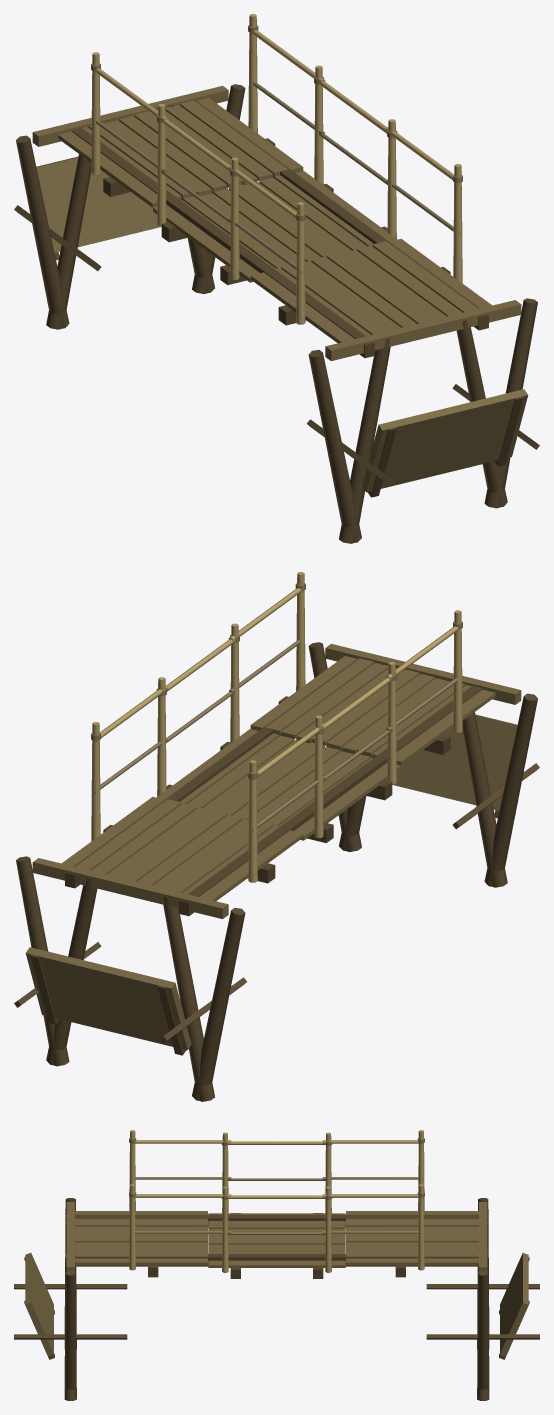
File: footbridge.glb
The picture shows the model from 3 angles, top to bottom: view 1: azimuth 30°, elevation 25°; view 2: azimuth 150°, elevation 25°; view 3: azimuth 270°, elevation 25°; orthographic projection. The views are drawn at different scales.
Visible parts, largest first — view 1: Mesh_Ramp_1, Mesh_Ramp_0, Mesh_Stringer_0, Mesh_CapBeam_1, Mesh_Post_L_Outer_0, Mesh_Post_L_Outer_1, Mesh_Post_L_Inner_1, Mesh_Post_L_Inner_0, Mesh_Post_R_Outer_1, Mesh_Stringer_1, Mesh_CapBeam_0, Mesh_Post_R_Inner_1 (+38 smaller); view 2: Mesh_Ramp_0, Mesh_Ramp_1, Mesh_Stringer_0, Mesh_CapBeam_0, Mesh_Post_L_Outer_1, Mesh_Post_L_Outer_0, Mesh_Post_L_Inner_0, Mesh_Post_L_Inner_1, Mesh_Post_R_Outer_0, Mesh_Stringer_1, Mesh_CapBeam_1, Mesh_Post_R_Inner_0 (+38 smaller); view 3: Mesh_Stringer_0, Mesh_Stringer_1, Mesh_Ramp_0, Mesh_Ramp_1, Mesh_Post_R_Outer_0, Mesh_Post_R_Outer_1, Mesh_Plank_9_0, Mesh_Plank_9_2, Mesh_Plank_9_1, Mesh_Plank_2_0, Mesh_Plank_2_2, Mesh_Plank_5_0 (+41 smaller).
Part boxes in pixels (x1,y1,x2,y2): Mesh_Ramp_1: [362, 389, 528, 492]; Mesh_Ramp_0: [36, 156, 166, 252]; Mesh_Stringer_0: [71, 128, 374, 358]; Mesh_CapBeam_1: [325, 300, 521, 360]; Mesh_Post_L_Outer_0: [16, 135, 69, 329]; Mesh_Post_L_Outer_1: [308, 350, 361, 542]; Mesh_Post_L_Inner_1: [339, 338, 390, 543]; Mesh_Post_L_Inner_0: [46, 154, 91, 329]; Mesh_Post_R_Outer_1: [484, 298, 537, 508]; Mesh_Stringer_1: [194, 100, 488, 330]; Mesh_CapBeam_0: [32, 85, 228, 146]; Mesh_Post_R_Inner_1: [456, 319, 507, 508]; Mesh_Ramp_0: [25, 947, 191, 1050]; Mesh_Ramp_1: [387, 714, 517, 810]; Mesh_Stringer_0: [179, 686, 482, 916]; Mesh_CapBeam_0: [32, 858, 228, 918]; Mesh_Post_L_Outer_1: [484, 693, 537, 887]; Mesh_Post_L_Outer_0: [192, 908, 245, 1100]; Mesh_Post_L_Inner_0: [163, 896, 214, 1101]; Mesh_Post_L_Inner_1: [462, 712, 507, 887]; Mesh_Post_R_Outer_0: [16, 856, 69, 1066]; Mesh_Stringer_1: [65, 658, 359, 888]; Mesh_CapBeam_1: [325, 643, 521, 704]; Mesh_Post_R_Inner_0: [46, 877, 97, 1066]; Mesh_Stringer_0: [65, 1214, 488, 1227]; Mesh_Stringer_1: [65, 1254, 488, 1266]; Mesh_Ramp_0: [500, 1253, 528, 1356]; Mesh_Ramp_1: [25, 1253, 53, 1356]; Mesh_Post_R_Outer_0: [477, 1270, 489, 1389]; Mesh_Post_R_Outer_1: [64, 1270, 76, 1389]; Mesh_Plank_9_0: [346, 1258, 478, 1265]; Mesh_Plank_9_2: [75, 1258, 207, 1265]; Mesh_Plank_9_1: [208, 1260, 345, 1267]; Mesh_Plank_2_0: [346, 1220, 478, 1226]; Mesh_Plank_2_2: [75, 1220, 207, 1226]; Mesh_Plank_5_0: [346, 1236, 478, 1242].
Size of the model in its own units: 1.78 by 2.31 by 5.1.
